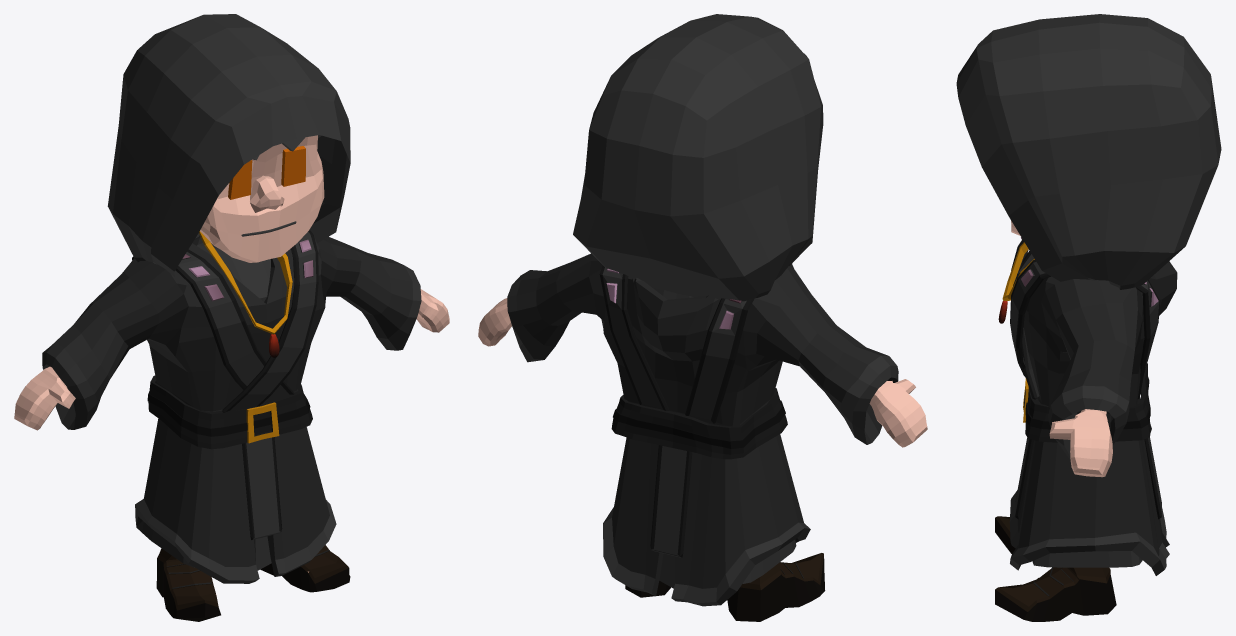
File: Dark_Mage.fbx
The picture shows the model from 3 angles, left to right: view 1: azimuth 30°, elevation 25°; view 2: azimuth 150°, elevation 25°; view 3: azimuth 270°, elevation 25°; orthographic projection. The views are drawn at different scales.
Parts seen in each view (by area): view 1: Joe.001; view 2: Joe.001; view 3: Joe.001.
Boxes of the visible parts, x1,y1,x2,y2 form: Joe.001: (14, 14, 449, 621); Joe.001: (478, 14, 927, 621); Joe.001: (956, 14, 1221, 621).
Size of the model in its own units: 330 by 412 by 174.
